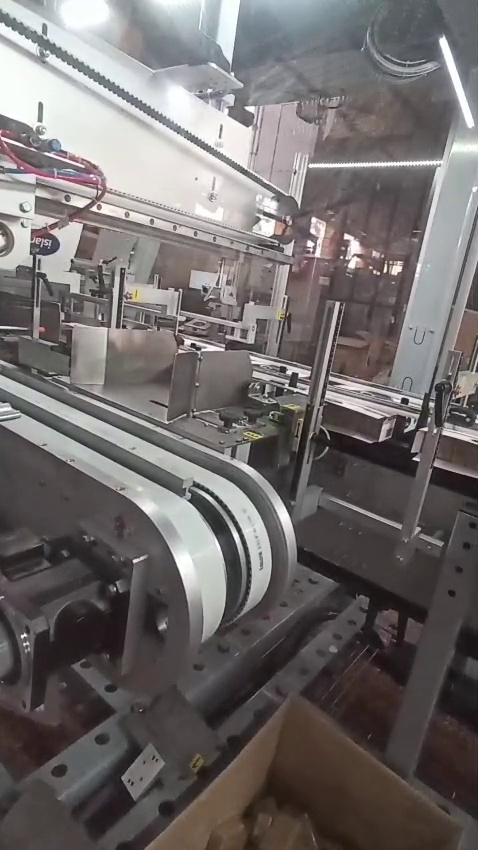savon: (148, 702, 462, 850), (187, 752, 212, 782), (286, 403, 312, 431), (242, 430, 270, 444), (129, 289, 141, 304)
